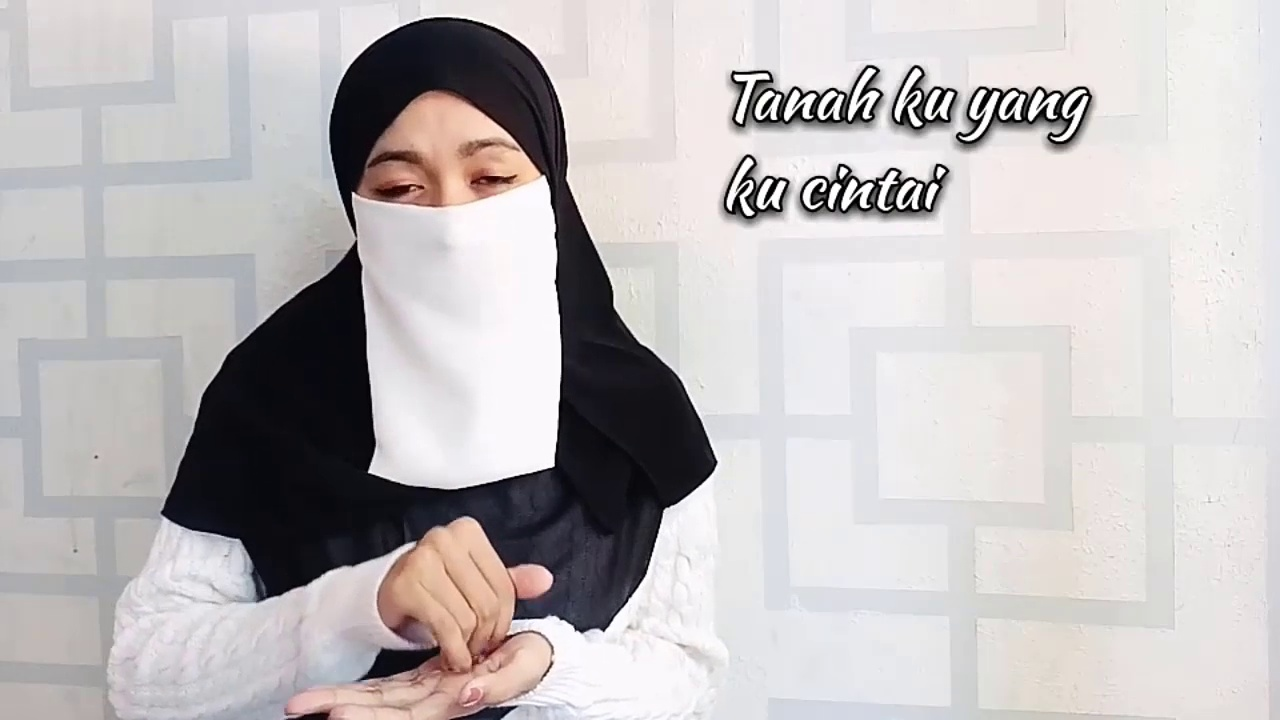TANAH: (372, 507, 556, 720)
